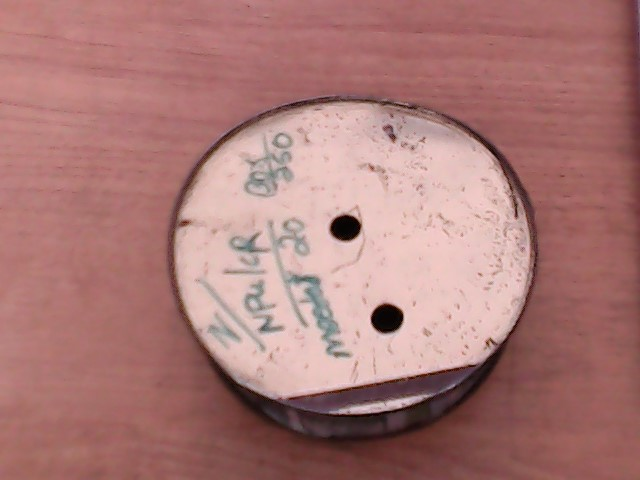Metal: (169, 64, 576, 477)
